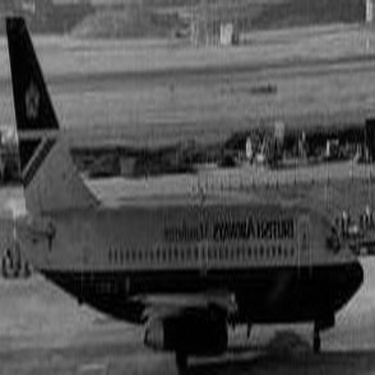airplane: (5, 4, 374, 371)
